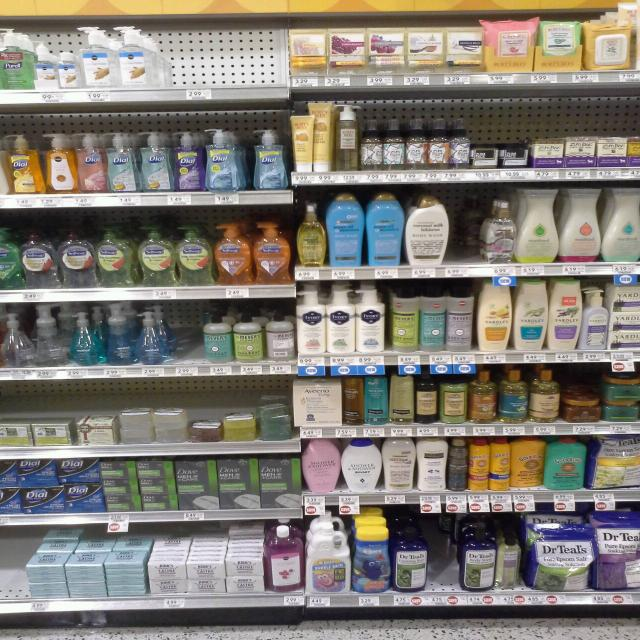unorganised: (512, 441, 548, 489)
